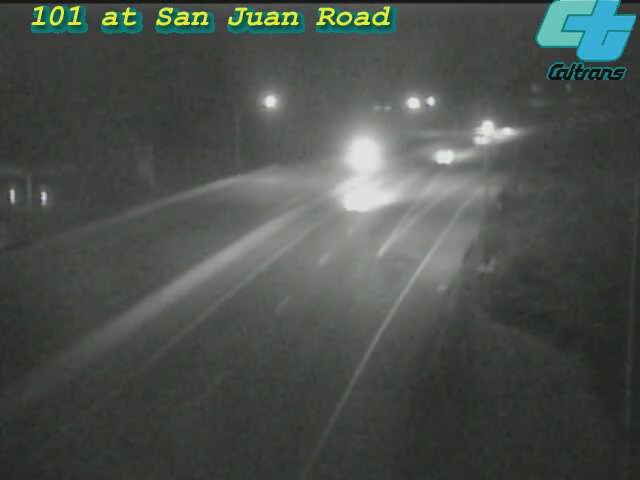vehicle: (319, 115, 399, 195), (326, 156, 406, 236), (457, 101, 507, 151), (487, 105, 537, 155), (457, 113, 507, 163), (421, 131, 471, 181)
